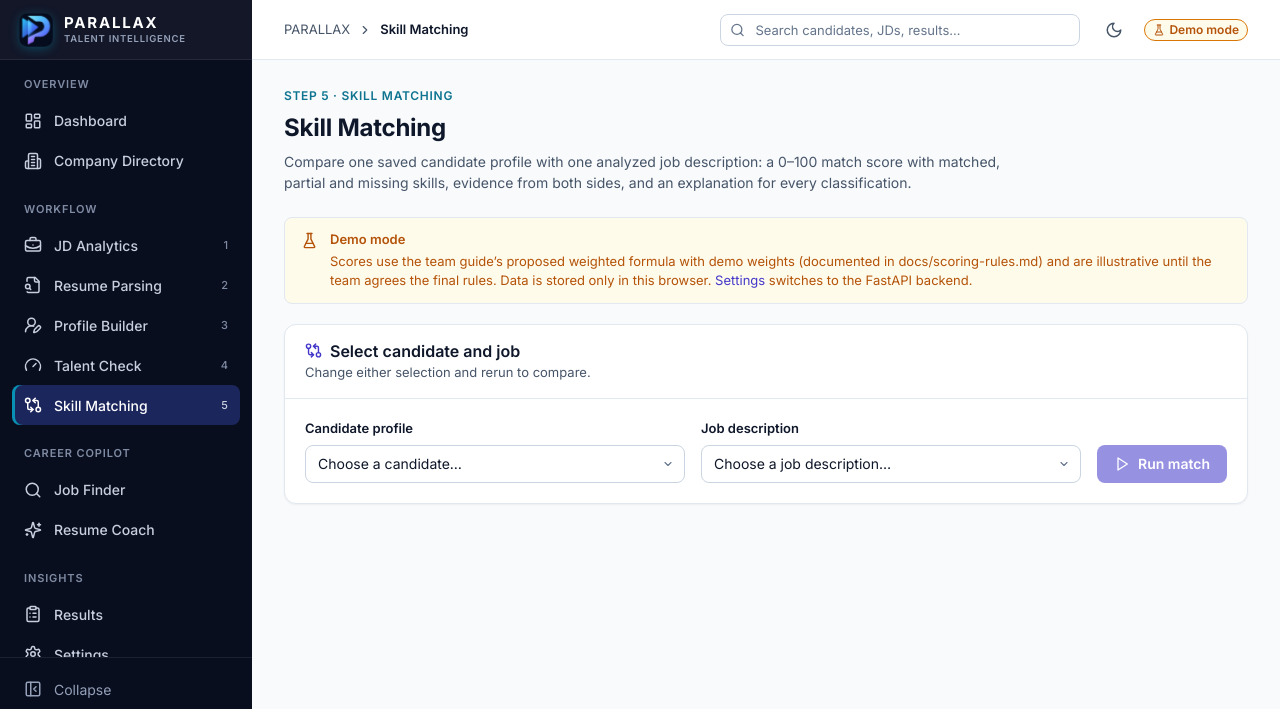
Test: Skill Matching Page & Components › displays API error state when match fails
Select "Ananya Rao (12 skills)" in the dropdown labelled "Candidate profile". click: [495, 464]
box: [305, 444, 685, 482]
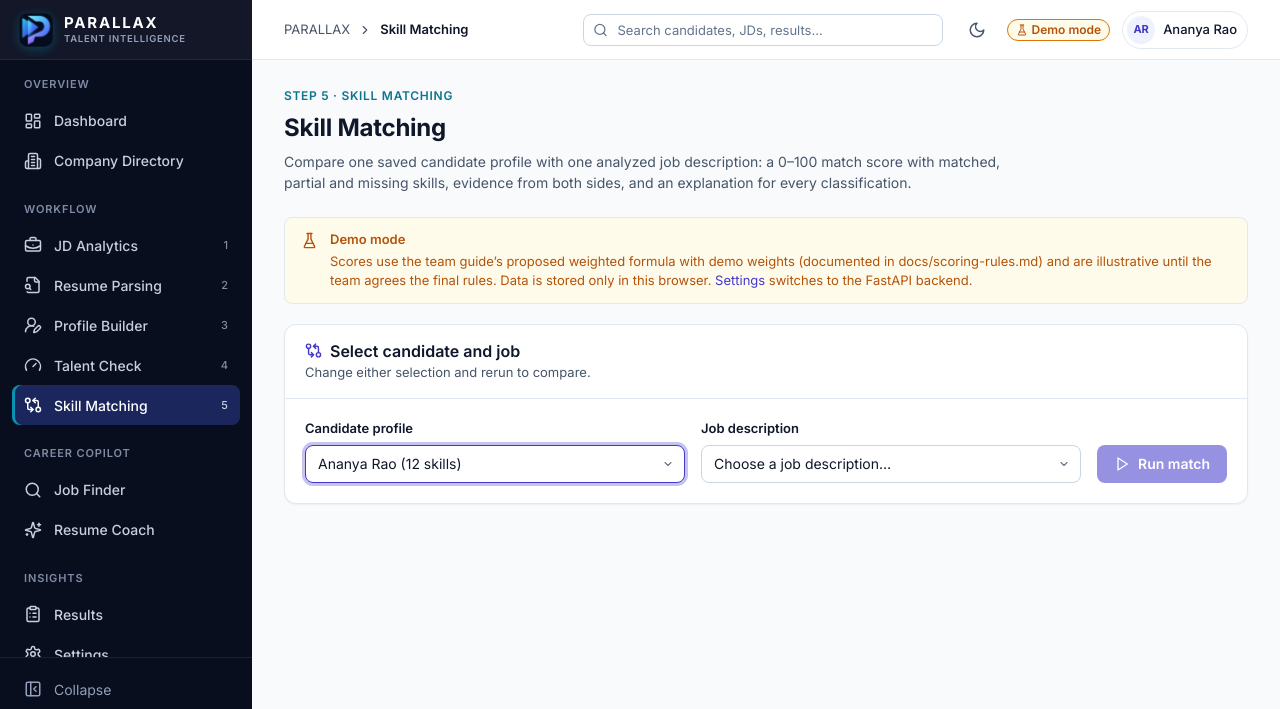
Select "Software Engineer (SWE) — Google LLC" in the dropdown labelled "Job description". click: [891, 464]
box: [701, 444, 1081, 482]
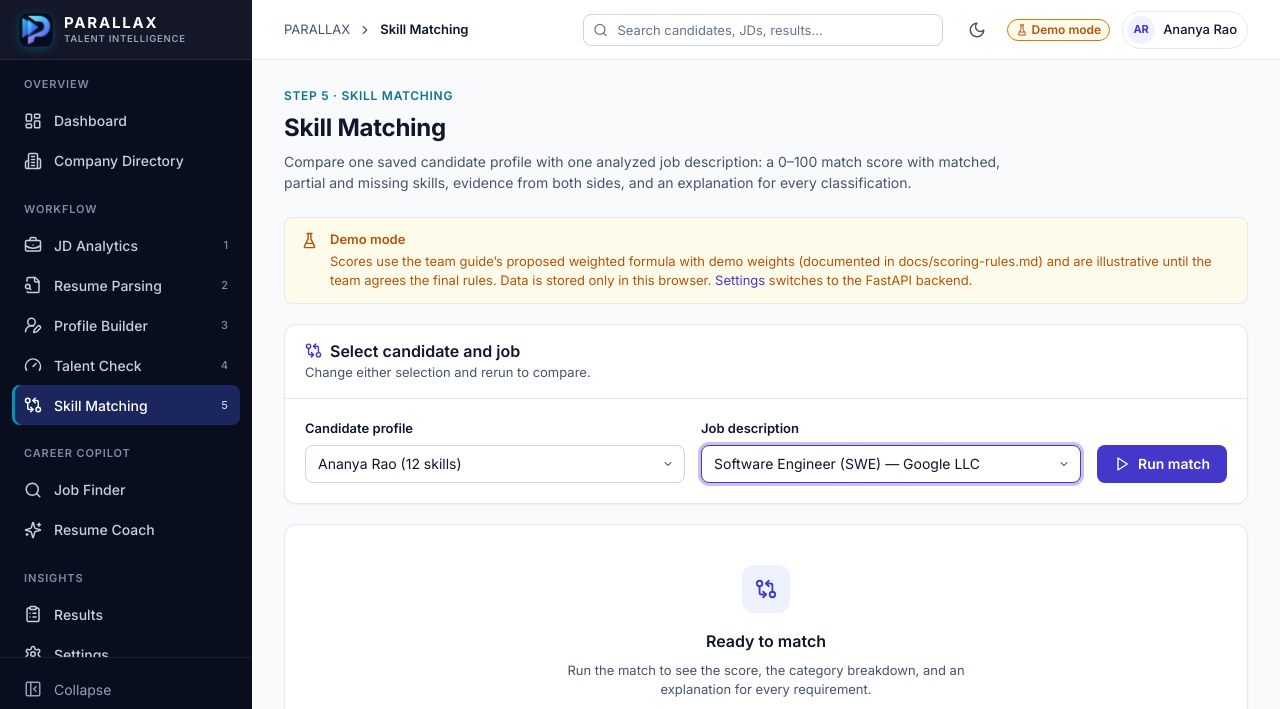
Click the 1st button "Run match". click: [1162, 464]
box: [1097, 444, 1227, 482]
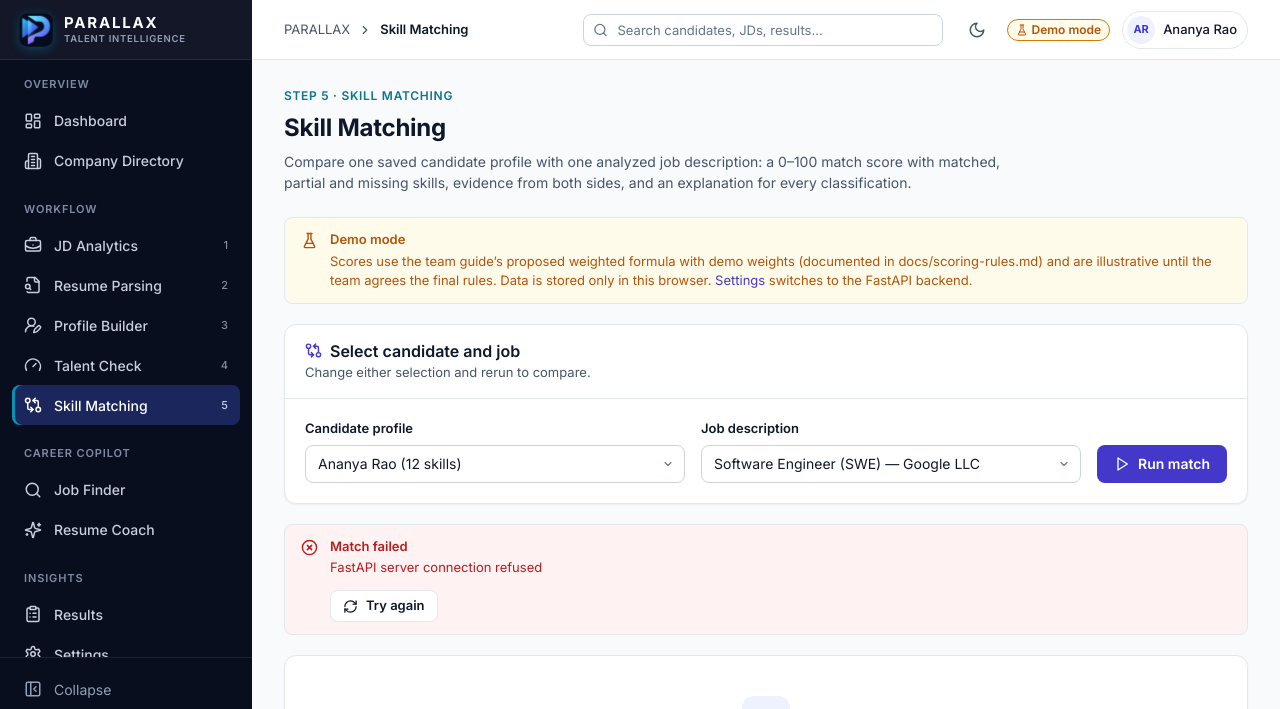
Now the text "Match failed" is shown, box [330, 538, 408, 554]
Now the text "FastAPI server connection refused" is shown, box [330, 559, 542, 575]
